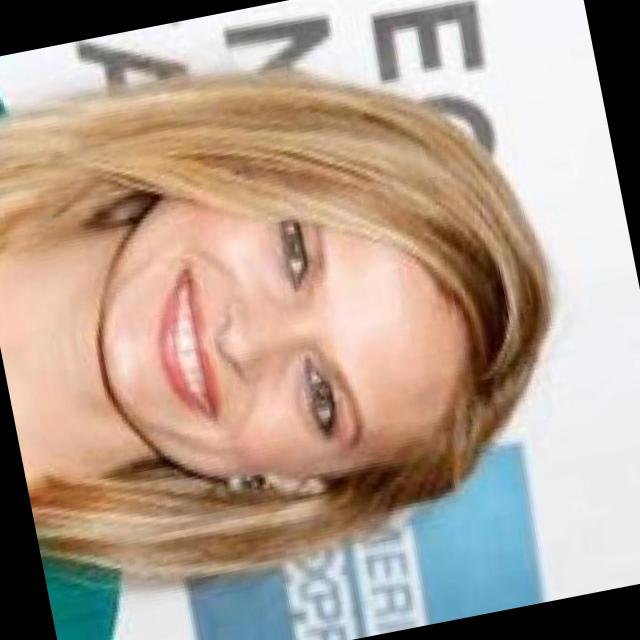bareface: (79, 108, 508, 528)
